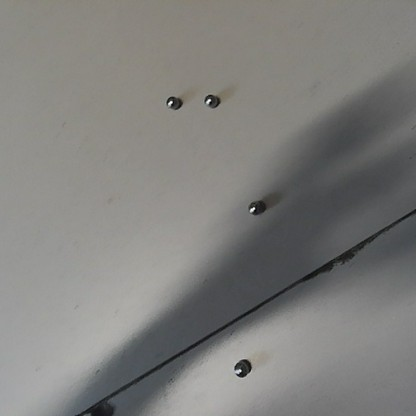ironball: (243, 195, 267, 219), (201, 91, 222, 111), (231, 358, 250, 380), (163, 94, 183, 112)
